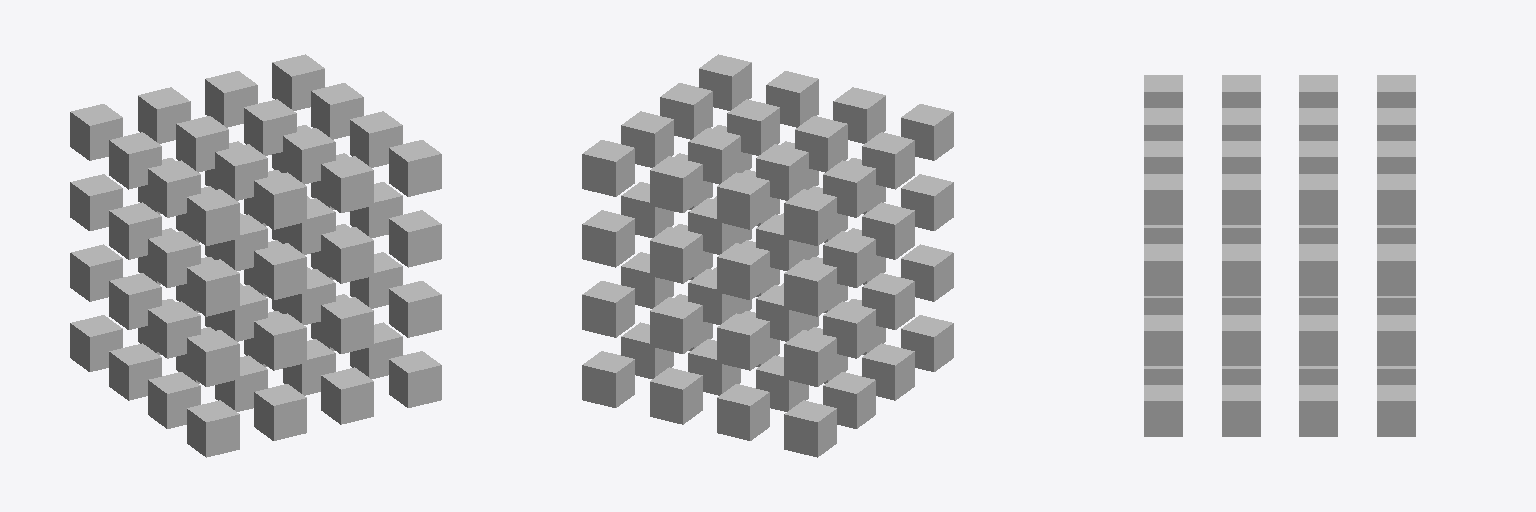
Rendered from cubes.obj.
3 views of the same model, side by side, from view 1: azimuth 30°, elevation 25°; view 2: azimuth 150°, elevation 25°; view 3: azimuth 270°, elevation 25° (orthographic).
Parts seen in each view (by area): view 1: Cube.434, Cube.537, Cube.436, Cube.334, Cube.237, Cube.535, Cube.435, Cube.335, Cube.236, Cube.235, Cube.234, Cube.536 (+28 smaller); view 2: Cube.464, Cube.567, Cube.466, Cube.364, Cube.267, Cube.565, Cube.465, Cube.365, Cube.266, Cube.265, Cube.264, Cube.566 (+28 smaller); view 3: Cube.467, Cube.457, Cube.447, Cube.437, Cube.267, Cube.257, Cube.247, Cube.237, Cube.567, Cube.557, Cube.547, Cube.537 (+28 smaller).
Boxes of the visible parts, x1,y1,x2,y2 form: Cube.434: [187, 259, 239, 316]; Cube.537: [389, 140, 441, 196]; Cube.436: [321, 227, 373, 283]; Cube.334: [187, 330, 239, 386]; Cube.237: [389, 351, 441, 407]; Cube.535: [254, 172, 306, 229]; Cube.435: [254, 243, 306, 299]; Cube.335: [254, 313, 306, 370]; Cube.236: [321, 367, 373, 424]; Cube.235: [254, 384, 306, 440]; Cube.234: [187, 400, 239, 457]; Cube.536: [321, 156, 373, 212]; Cube.464: [784, 259, 836, 316]; Cube.567: [582, 140, 634, 196]; Cube.466: [650, 227, 702, 283]; Cube.364: [784, 330, 836, 386]; Cube.267: [582, 351, 634, 407]; Cube.565: [717, 172, 769, 229]; Cube.465: [717, 243, 769, 299]; Cube.365: [717, 313, 769, 370]; Cube.266: [650, 367, 702, 424]; Cube.265: [717, 384, 769, 440]; Cube.264: [784, 400, 836, 457]; Cube.566: [650, 156, 702, 212]; Cube.467: [1377, 244, 1415, 295]; Cube.457: [1299, 244, 1337, 295]; Cube.447: [1222, 244, 1260, 295]; Cube.437: [1144, 244, 1182, 295]; Cube.267: [1377, 385, 1415, 436]; Cube.257: [1299, 385, 1337, 436]; Cube.247: [1222, 385, 1260, 436]; Cube.237: [1144, 385, 1182, 436]; Cube.567: [1377, 174, 1415, 224]; Cube.557: [1299, 174, 1337, 224]; Cube.547: [1222, 174, 1260, 224]; Cube.537: [1144, 174, 1182, 224].
Size of the model in its own units: 14 by 14 by 14.